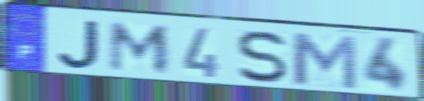4: (360, 35, 411, 96), (182, 27, 221, 79)
J: (56, 18, 102, 71)
M: (288, 30, 360, 91), (106, 20, 173, 75)
S: (236, 29, 290, 85)
